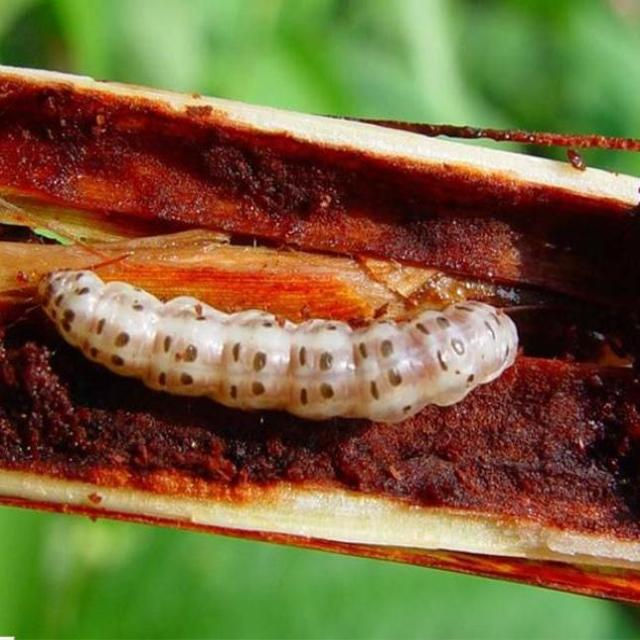peach borer: (38, 266, 541, 428)
